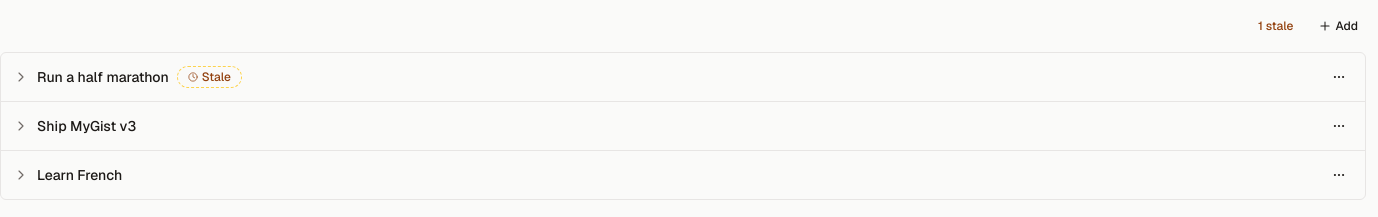
Test: provenance in the editor › marks a stale row and narrows the list to stale rows from its header
The width and height of the screenshot is (1378, 217).
expect the text "Stale" is shown once: met, box [177, 66, 242, 88]
Click the button "1 stale".
click(1276, 26)  # box [1250, 12, 1302, 40]
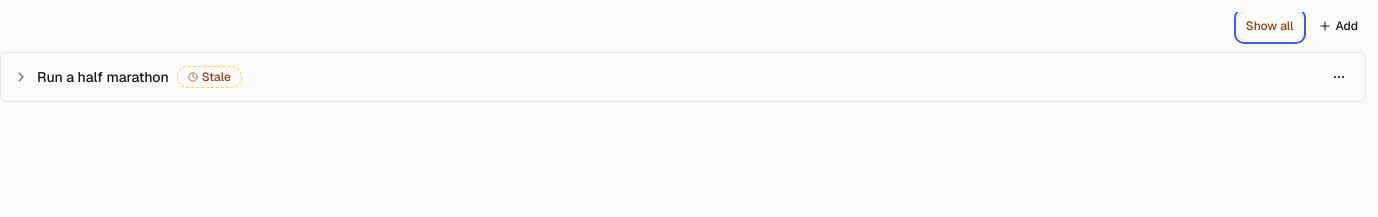
expect the button "Ship MyGist v3" is gone: met
Click the button "Show all".
click(1270, 26)  # box [1238, 12, 1302, 40]
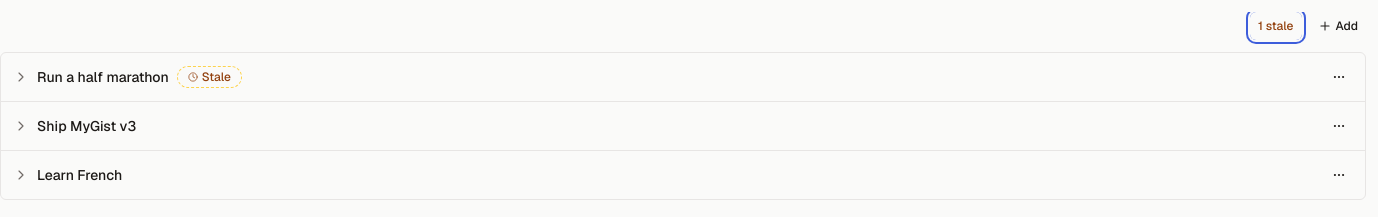
expect the text "Ship MyGist v3" is shown: met, box [37, 116, 136, 136]
